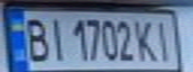0: (100, 16, 118, 62)
1: (66, 15, 87, 61)
2: (115, 17, 136, 63)
7: (84, 16, 103, 61)
B: (21, 14, 51, 63)
I: (151, 17, 178, 63), (45, 15, 69, 62)
K: (133, 17, 160, 63)
